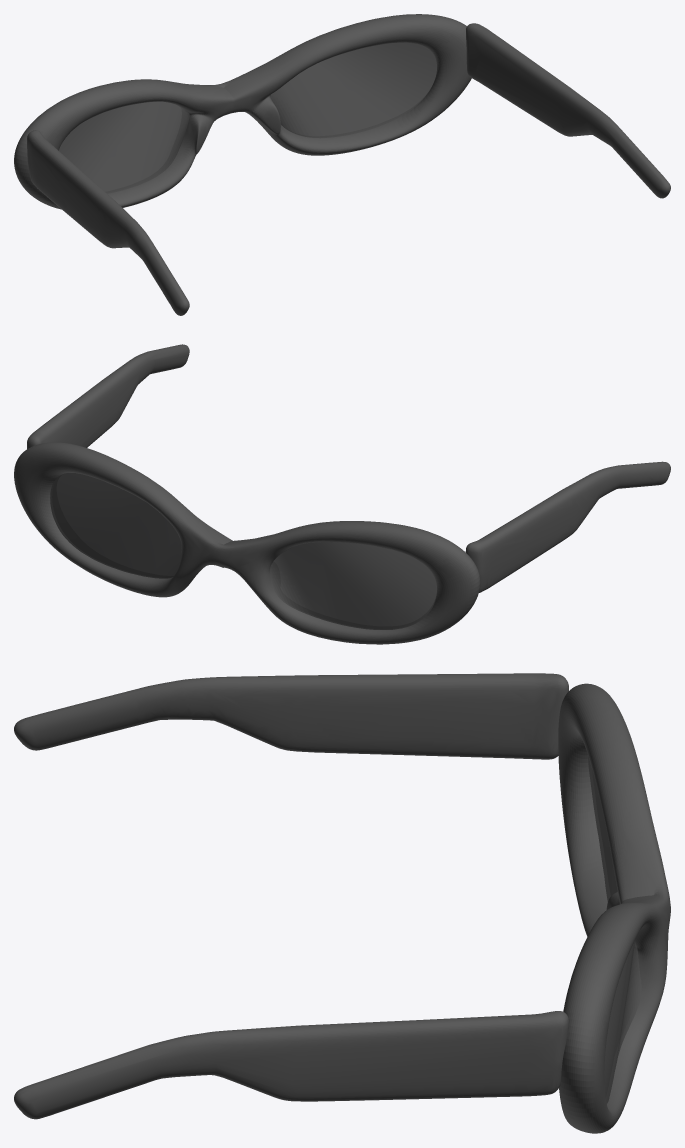
File: glasses - hush black.glb
3 renders of one model, top to bottom at view 1: azimuth 30°, elevation 25°; view 2: azimuth 150°, elevation 25°; view 3: azimuth 270°, elevation 25°, orthographic. The views are drawn at different scales.
Visible parts, largest first — view 1: Cube, Cube_1; view 2: Cube, Cube_1; view 3: Cube, Cube_1.
Boxes of the visible parts, box(x1,y1,x2,y2) form: Cube: box(14, 14, 670, 315); Cube_1: box(59, 42, 436, 193); Cube: box(14, 344, 670, 644); Cube_1: box(50, 473, 436, 629); Cube: box(14, 673, 670, 1133); Cube_1: box(588, 756, 641, 1103).
Size of the model in its own units: 0.4307 by 0.1033 by 0.3164.
2 materials, 2 textured.
